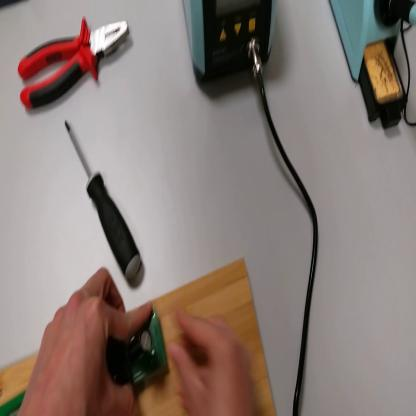hand: (19, 267, 153, 413), (169, 311, 257, 416)
high voltage board: (3, 302, 166, 414)
pliers: (18, 10, 132, 117)
screwdriver-: (64, 118, 144, 284)
welder base: (331, 3, 411, 138)
welder probe tip: (372, 3, 416, 31)
welder station: (186, 4, 281, 96)
working area: (1, 256, 275, 415)
